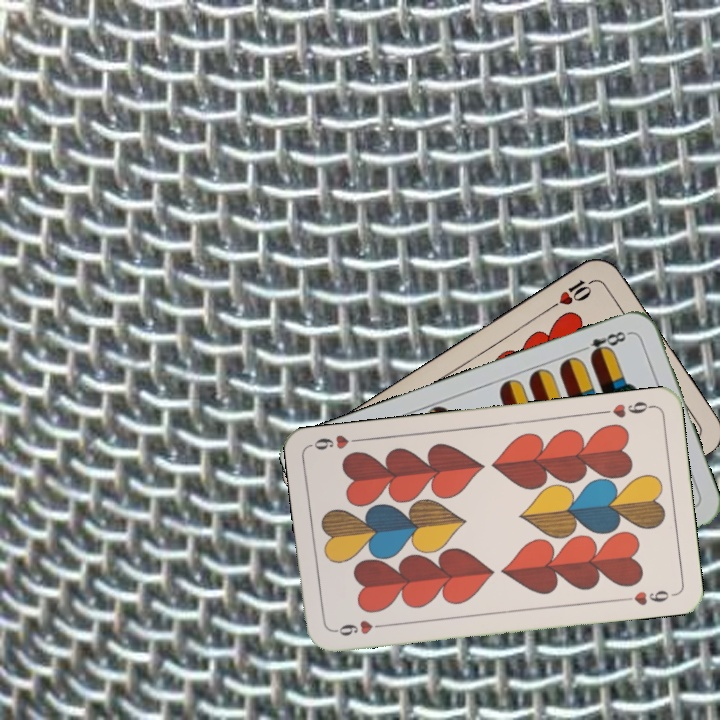E8: (575, 327, 633, 361)
H10: (545, 275, 599, 312)
H9: (597, 397, 656, 421), (330, 616, 389, 638)
